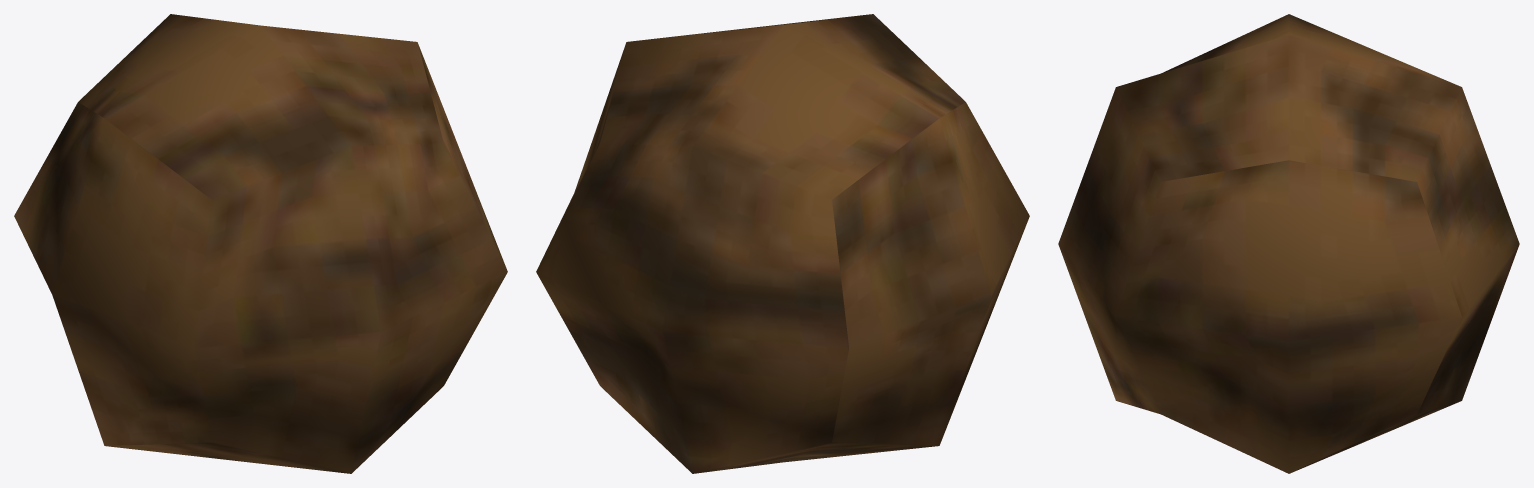
The model's file is rock000.obj.
3 views of the same model, side by side, from view 1: azimuth 30°, elevation 25°; view 2: azimuth 150°, elevation 25°; view 3: azimuth 270°, elevation 25° (orthographic). The views are drawn at different scales.
Parts seen in each view (by area): view 1: pCube1; view 2: pCube1; view 3: pCube1.
Boxes of the visible parts, x1,y1,x2,y2 form: pCube1: (14, 14, 507, 473); pCube1: (536, 14, 1029, 473); pCube1: (1058, 14, 1519, 473).
Size of the model in its own units: 10 by 10 by 10.
1 material, 1 textured.
